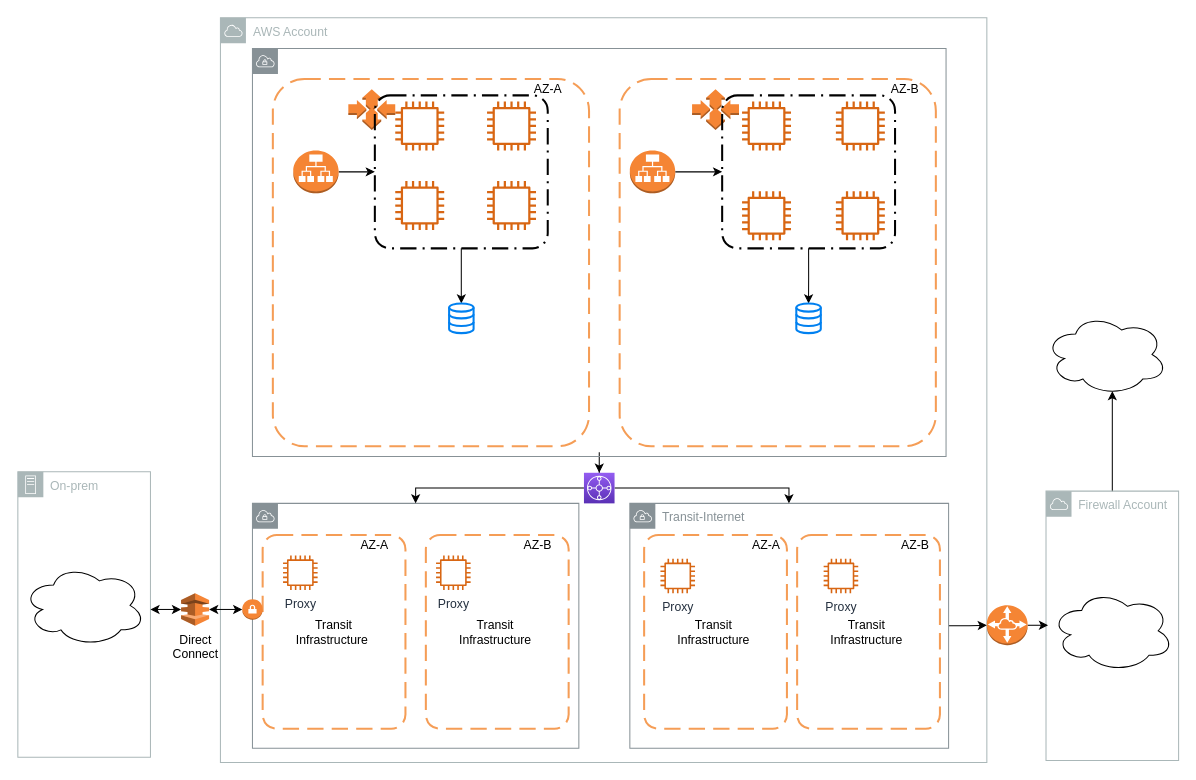
Some shapes in this 1196 by 780 pixel diagram are drawn without their labels. The box of each missing label's shape, as (x1, y1, x2, y2) in pixels:
App-Env: (251, 47, 946, 456)
Firewall: (1050, 589, 1174, 672)
Internet: (1044, 313, 1167, 395)
On-prem Services: (22, 564, 145, 646)
Transit-Onprem: (251, 502, 579, 748)
Virtual Private Gateway: (241, 598, 263, 620)
